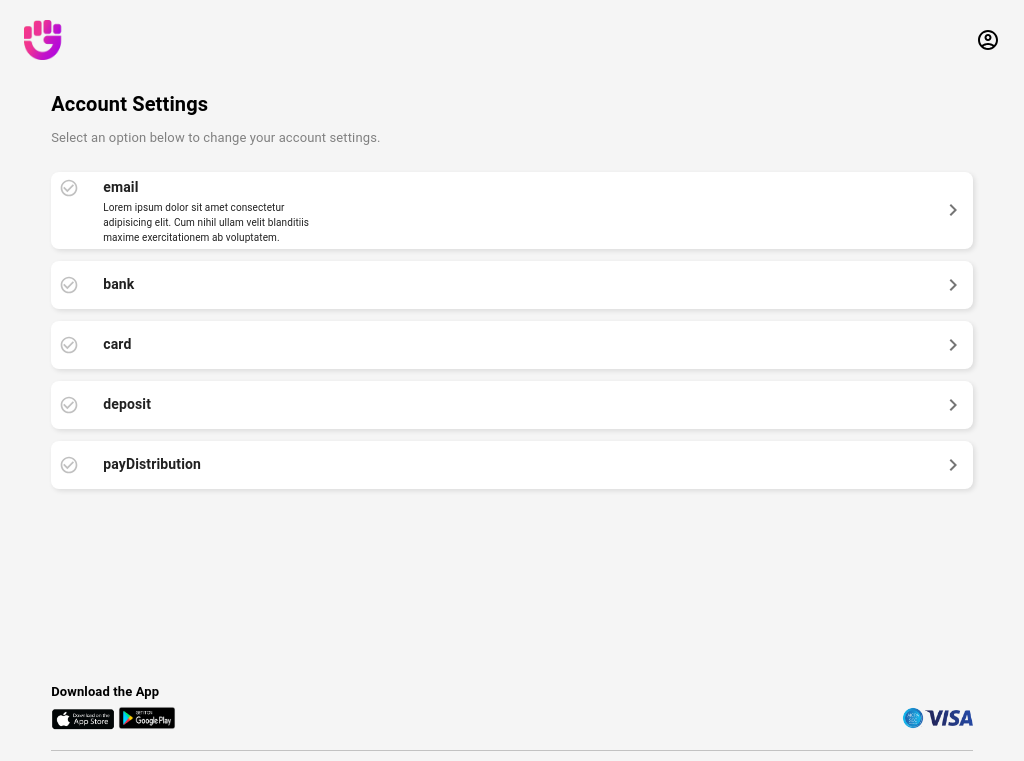
test the steps › check the completed state of a step
Expected: the heading "Account Settings" is shown, x1=51 y1=92 x2=208 y2=116
Step 1. Click the button with test id "stepbutton" in the row of "email" → (953, 210), box x1=933 y1=176 x2=973 y2=244
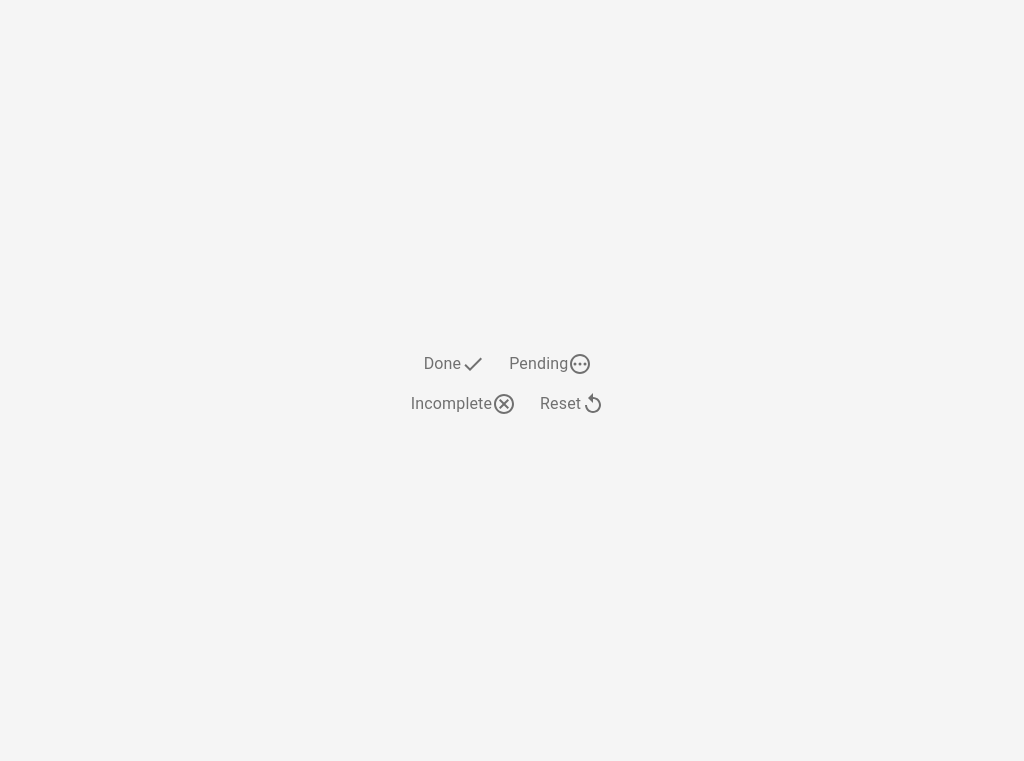
Expected: the text "Done" is shown, x1=424 y1=352 x2=461 y2=376
Step 2. Click the button "Done" → (458, 364), box x1=416 y1=344 x2=501 y2=384
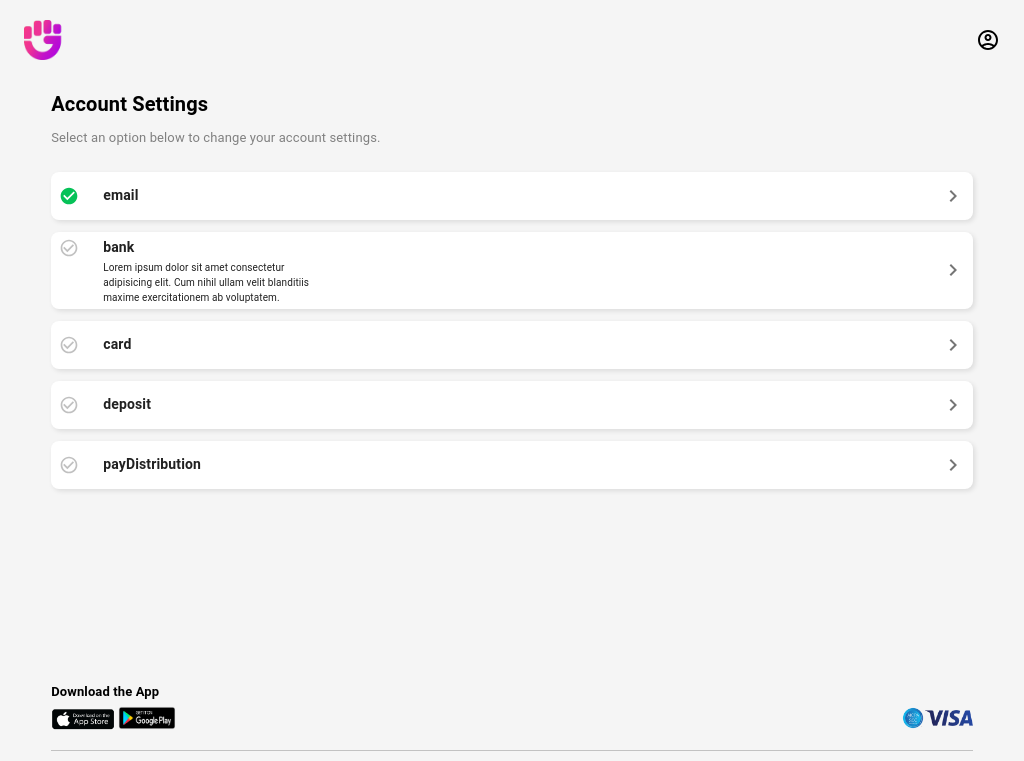
Expected: the icon with test id "completed-step" is shown, x1=59 y1=186 x2=79 y2=206
